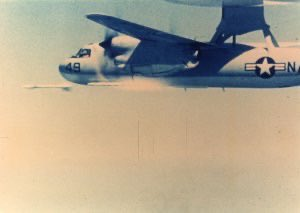E2: (57, 1, 300, 93)
